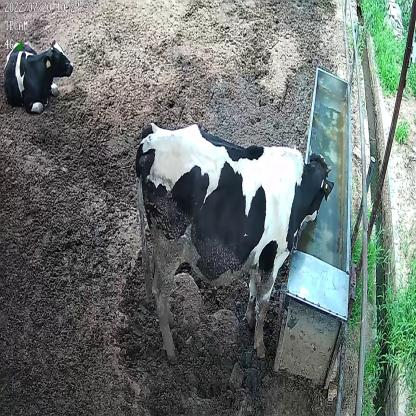cow: (132, 116, 334, 361), (4, 39, 75, 117)
